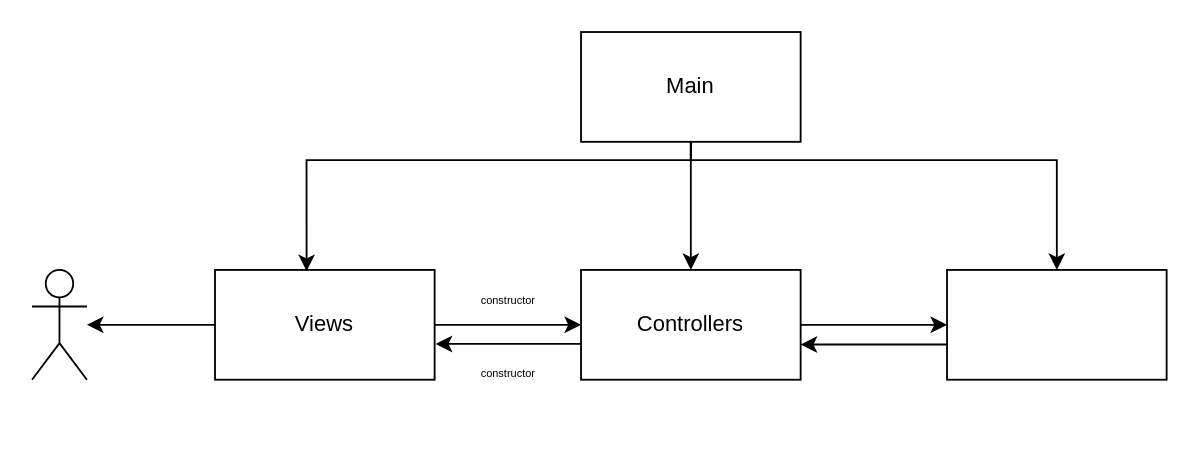
The diagram is 1199 pixels wide and 450 high, and some of its shapes have lost their labels. Here are the shapes that lost their labels. From the top down, the centre of each, then its label:
At [58,324]: "Actor".
At [1056,324]: "Models".
